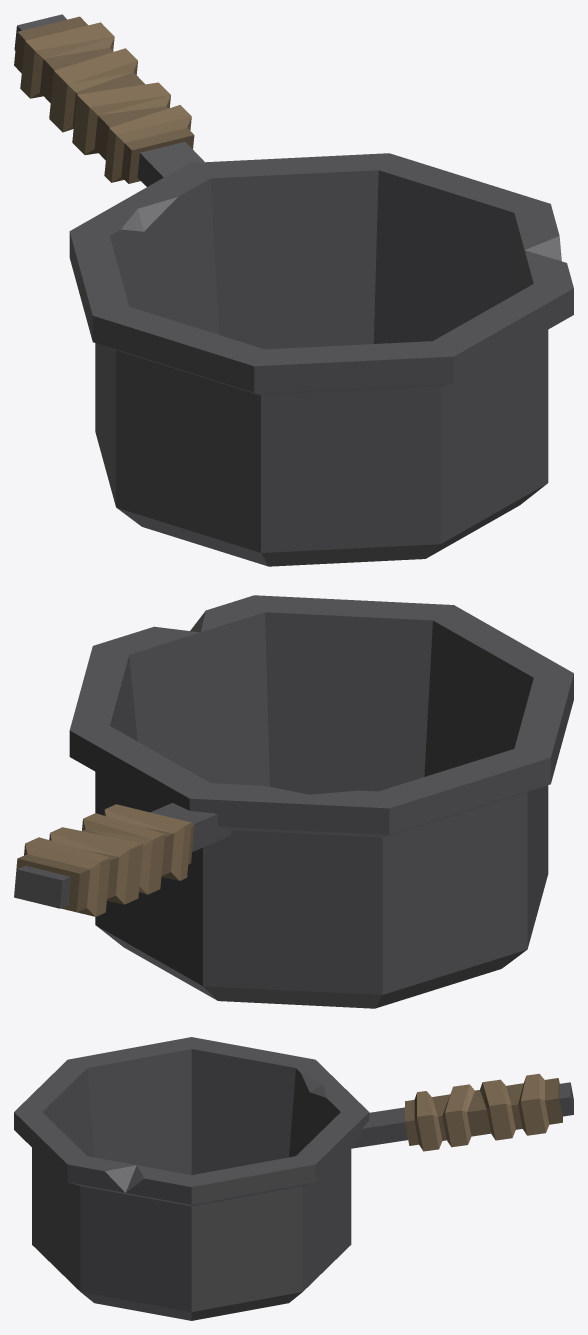
Rendered from SM_Prop_Pot_02.gltf.
The picture shows the model from 3 angles, top to bottom: view 1: azimuth 30°, elevation 25°; view 2: azimuth 150°, elevation 25°; view 3: azimuth 270°, elevation 25°; orthographic projection. The views are drawn at different scales.
Parts seen in each view (by area): view 1: SM_Prop_Pot_02; view 2: SM_Prop_Pot_02; view 3: SM_Prop_Pot_02.
Part boxes in pixels (x1,y1,x2,y2): SM_Prop_Pot_02: (14,14,573,566); SM_Prop_Pot_02: (14,595,573,1008); SM_Prop_Pot_02: (14,1037,573,1320).
Bounding box in the file's own units: 0.3672 × 0.2006 × 0.5788.
Materials: 1 (1 with a texture image).
